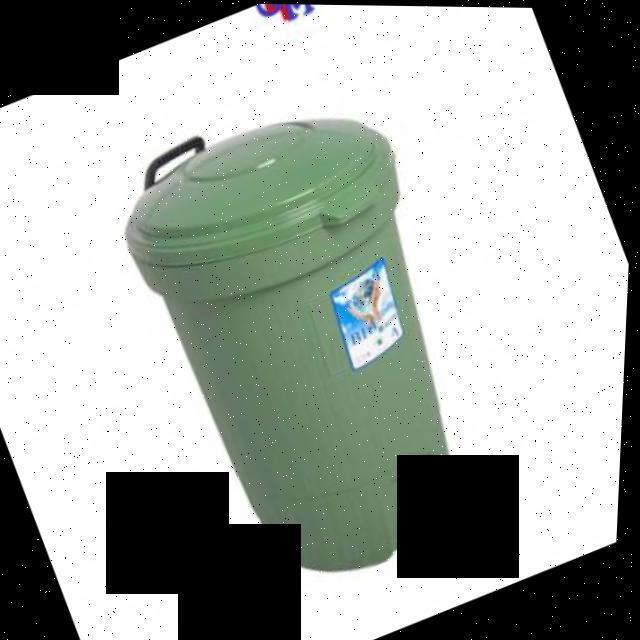bin: (61, 51, 566, 636)
